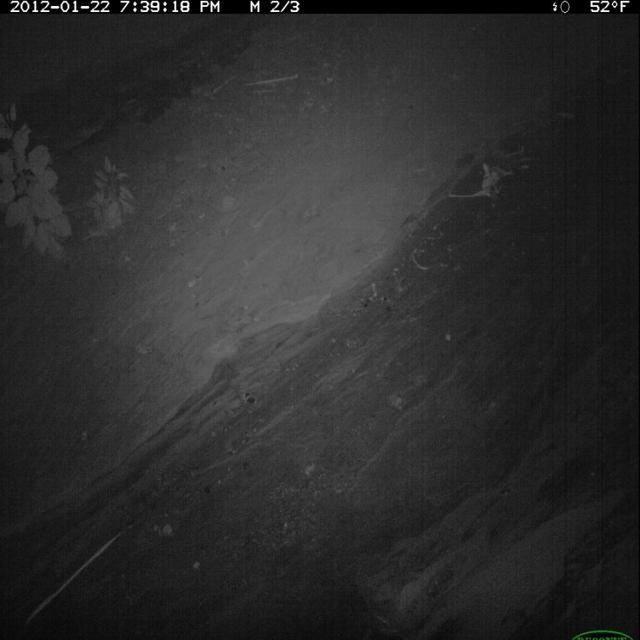bobcat: (1, 1, 640, 640)
